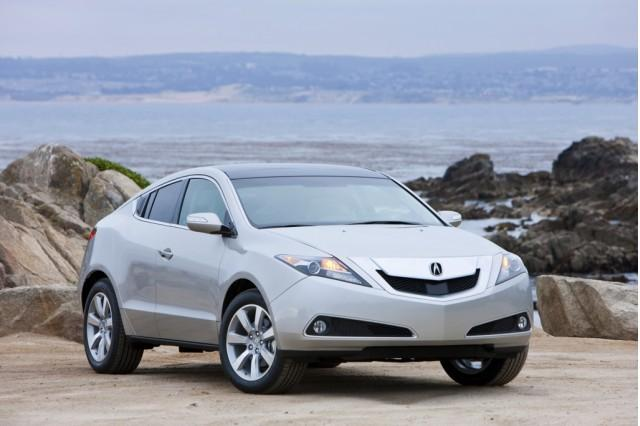Hatchback: (77, 160, 535, 394)
